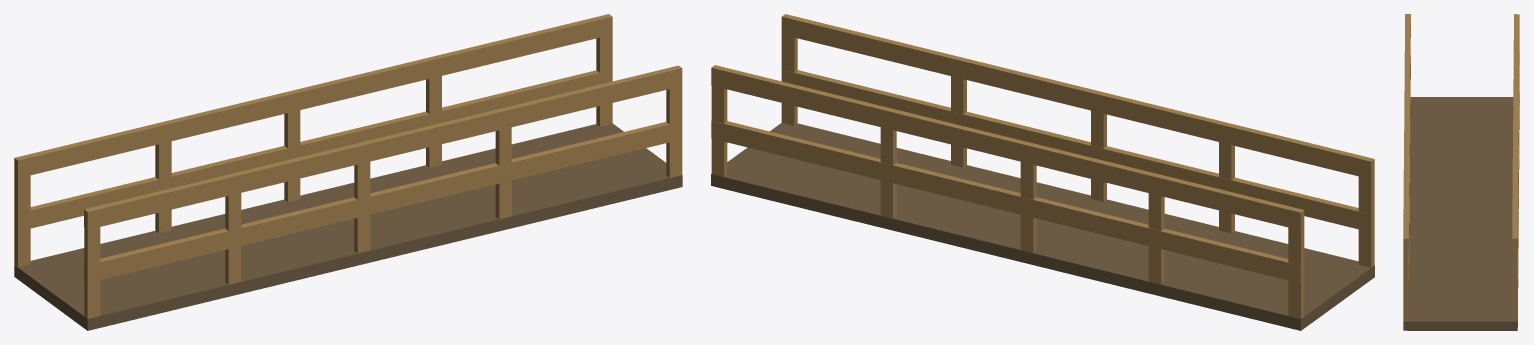
File: BridgeSingleStraight.fbx
The picture shows the model from 3 angles, left to right: view 1: azimuth 30°, elevation 25°; view 2: azimuth 150°, elevation 25°; view 3: azimuth 270°, elevation 25°; orthographic projection. The views are drawn at different scales.
Visible parts, largest first — view 1: polySurface75; view 2: polySurface75; view 3: polySurface75.
Part boxes in pixels (<box>): polySurface75: <box>14,14,682,330</box>; polySurface75: <box>711,14,1374,330</box>; polySurface75: <box>1403,14,1519,330</box>.
Bounding box in the file's own units: 9.92 × 1.9 × 2.17.
